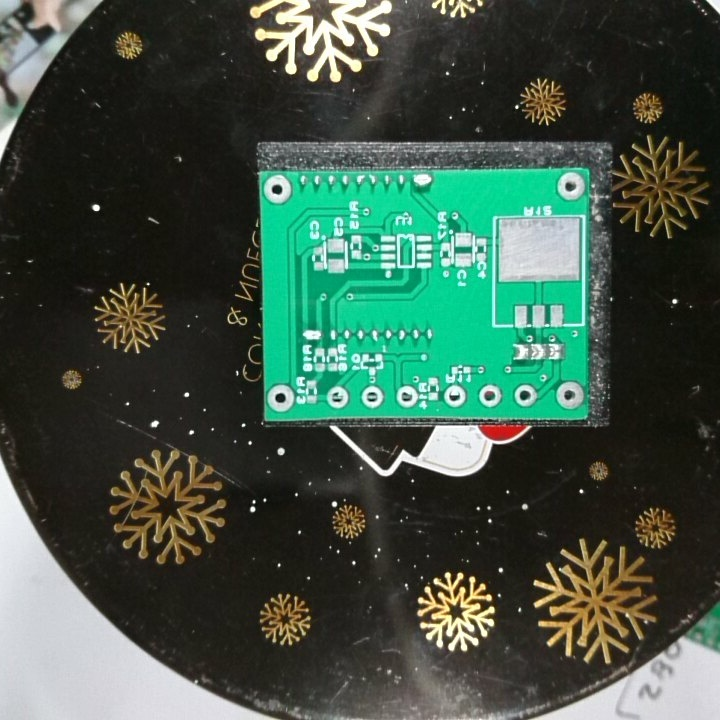F: (262, 172, 292, 208), (556, 170, 588, 201), (554, 380, 585, 412), (266, 383, 294, 413), (511, 383, 538, 409), (477, 383, 503, 410), (325, 385, 350, 412), (359, 384, 384, 410), (443, 383, 467, 409), (394, 384, 417, 410)
P: (410, 172, 433, 189), (302, 327, 322, 343)
